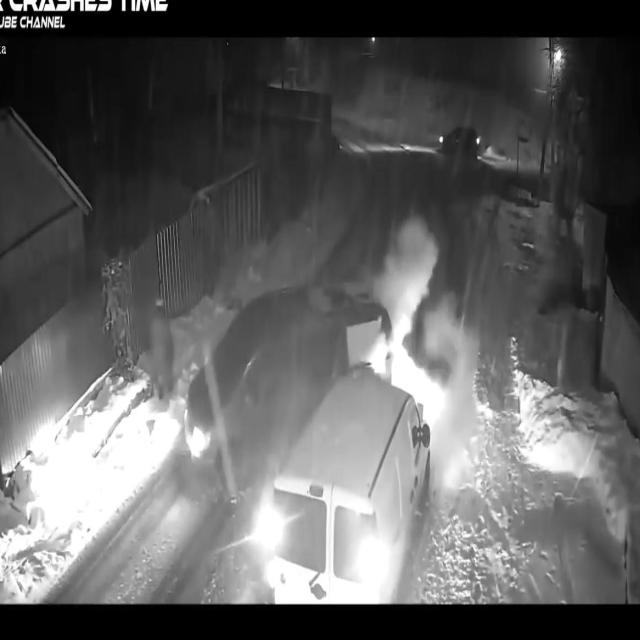accident: (179, 263, 441, 605)
